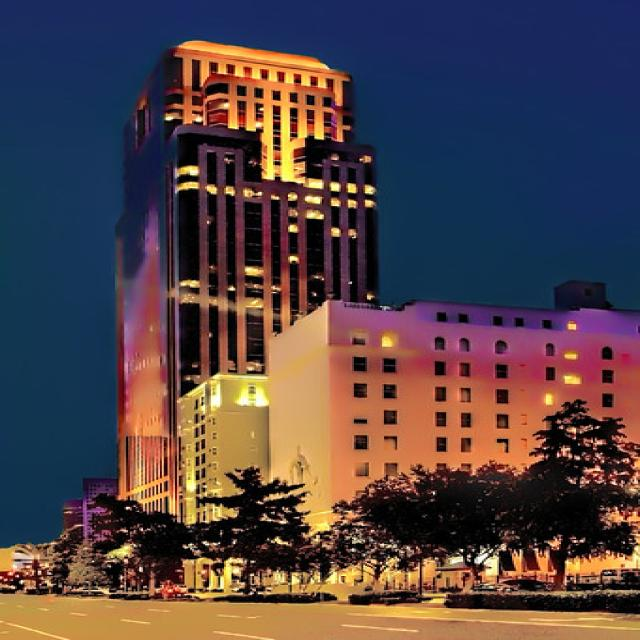building: (106, 35, 390, 586)
